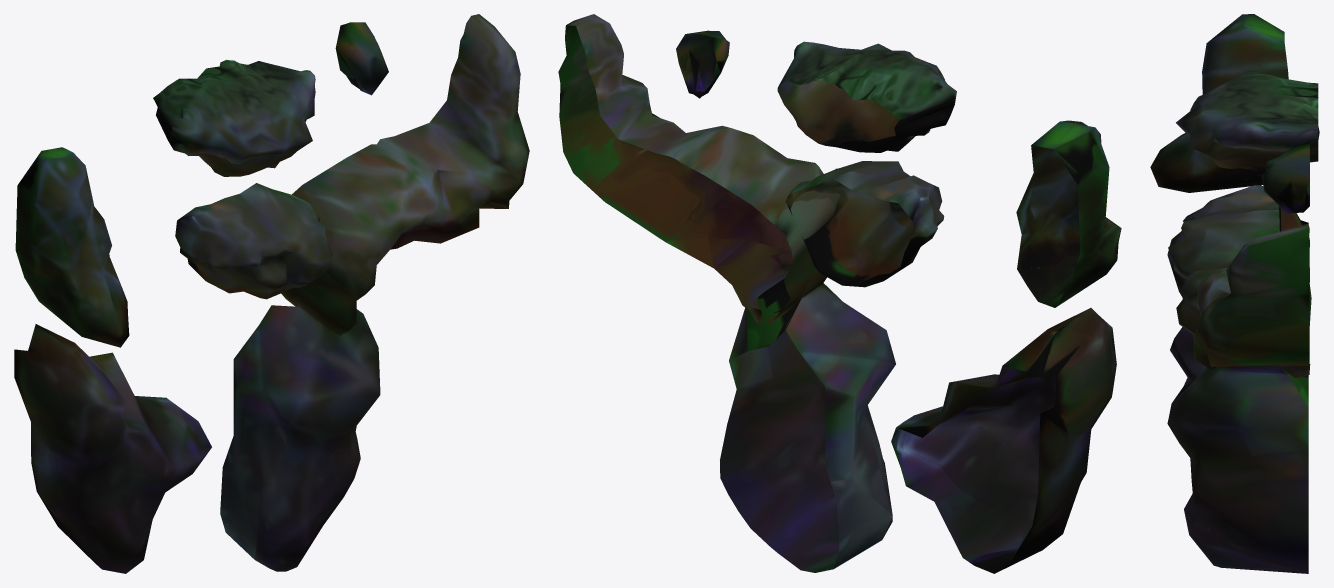
File: mapf.fbx
The picture shows the model from 3 angles, left to right: view 1: azimuth 30°, elevation 25°; view 2: azimuth 150°, elevation 25°; view 3: azimuth 270°, elevation 25°; orthographic projection. The views are drawn at different scales.
Visible parts, largest first — view 1: Sphere.001; view 2: Sphere.001; view 3: Sphere.001.
Part boxes in pixels (x1=…): Sphere.001: x1=14, y1=14, x2=529, y2=573; Sphere.001: x1=558, y1=14, x2=1121, y2=573; Sphere.001: x1=1150, y1=14, x2=1319, y2=573.
Bounding box in the file's own units: 16994 × 5270 × 16335.
